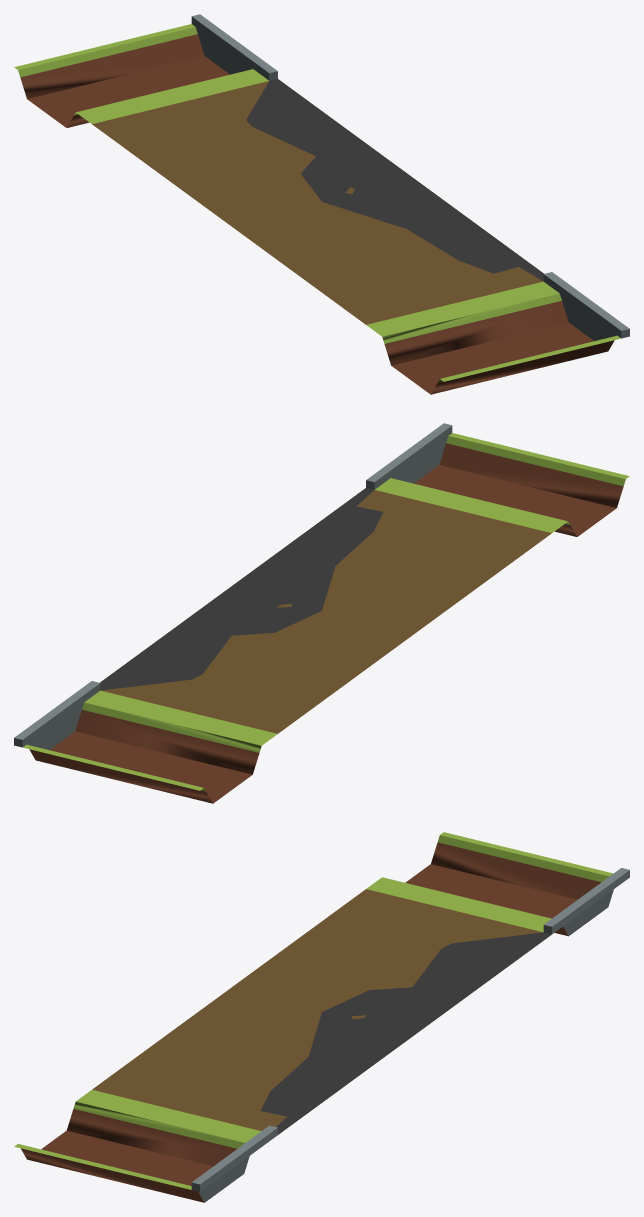
Rendered from road_Dirt_Transition.fbx.
3 views of the same model, one above another, from view 1: azimuth 30°, elevation 25°; view 2: azimuth 150°, elevation 25°; view 3: azimuth 330°, elevation 25° (orthographic).
Parts seen in each view (by area): view 1: road_Dirt_Transition; view 2: road_Dirt_Transition; view 3: road_Dirt_Transition.
Boxes of the visible parts, left/top/right/bottom form: road_Dirt_Transition: left=14, top=14, right=629, bottom=394; road_Dirt_Transition: left=14, top=423, right=629, bottom=803; road_Dirt_Transition: left=14, top=832, right=629, bottom=1202.
Size of the model in its own units: 5 by 0.7696 by 20.
1 material, 1 textured.
